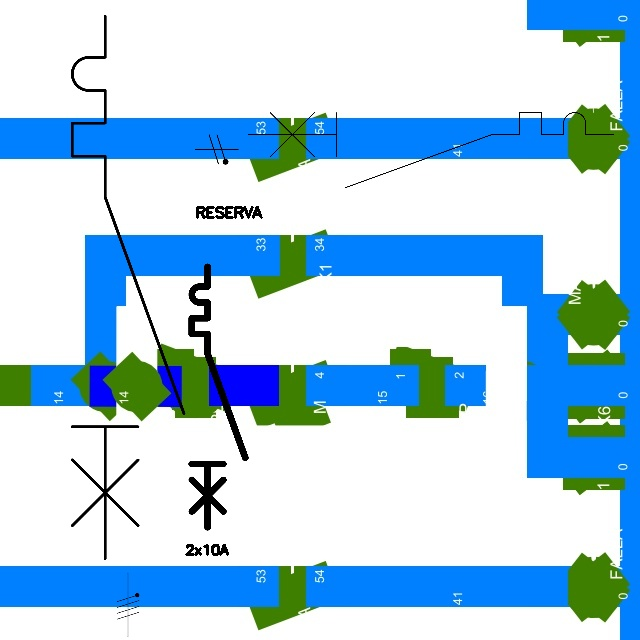interruptor_termomagnetico: (58, 2, 197, 572), (238, 103, 623, 197), (185, 260, 252, 533)
